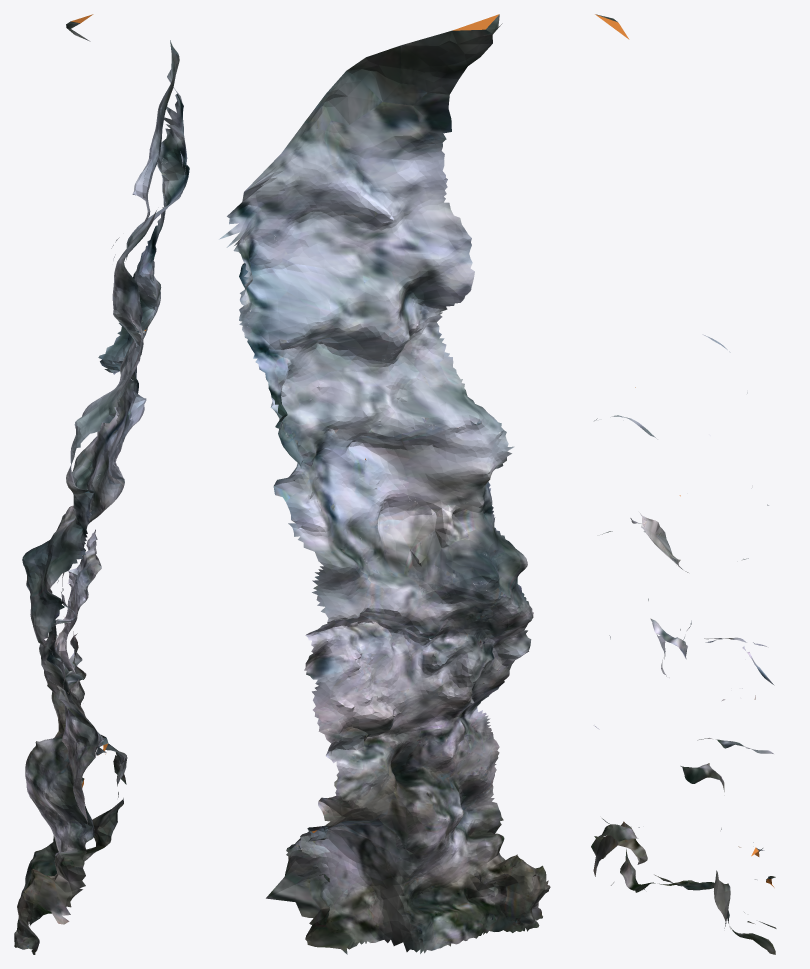
The model's file is tile_0124.gltf.
3 views of the same model, side by side, from view 1: azimuth 30°, elevation 25°; view 2: azimuth 150°, elevation 25°; view 3: azimuth 270°, elevation 25° (orthographic). The views are drawn at different scales.
Visible parts, largest first — view 1: defaultobject; view 2: defaultobject; view 3: defaultobject.
Part boxes in pixels (x1,y1,x2,y2): defaultobject: [14, 14, 189, 954]; defaultobject: [219, 14, 550, 954]; defaultobject: [591, 14, 776, 954].
Size of the model in its own units: 0.4337 by 1.59 by 0.3484.
2 materials, 2 textured.
